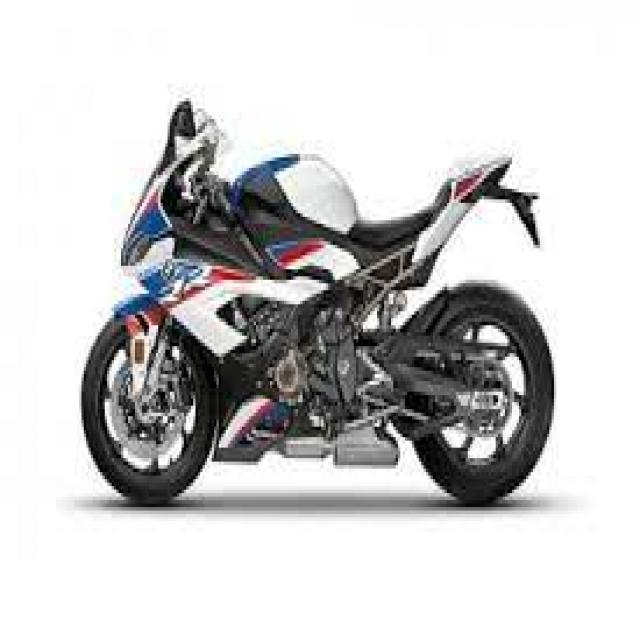Bike: (80, 77, 557, 511)
